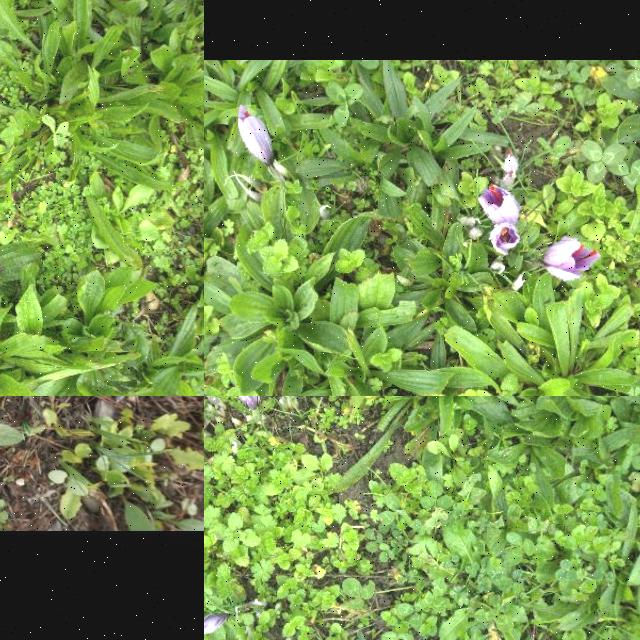flower: (545, 238, 603, 282), (238, 106, 274, 164), (478, 184, 520, 224), (488, 222, 520, 256), (204, 612, 229, 633), (237, 396, 260, 411)
